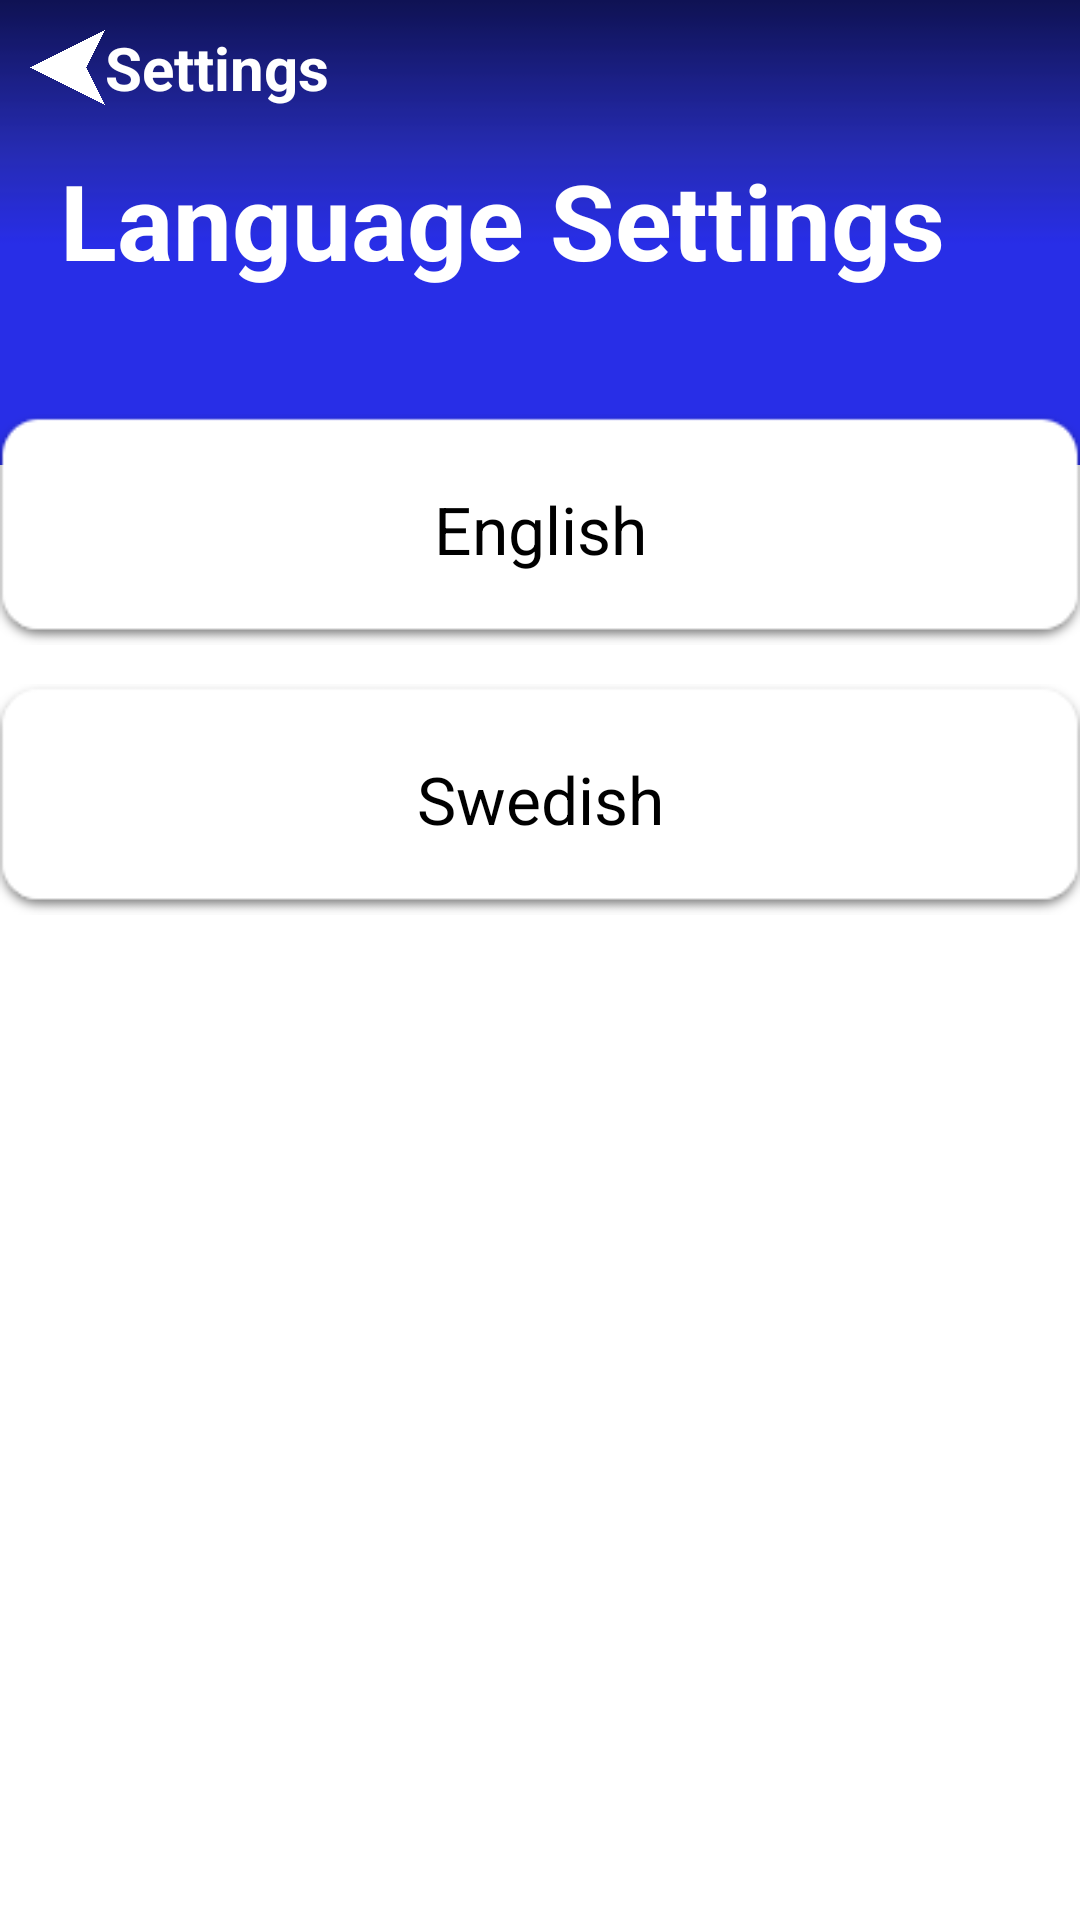

Screen size 1080x1920. Icon name, then its center in pixels as [x,y]:
leftarrow: [67,67]
